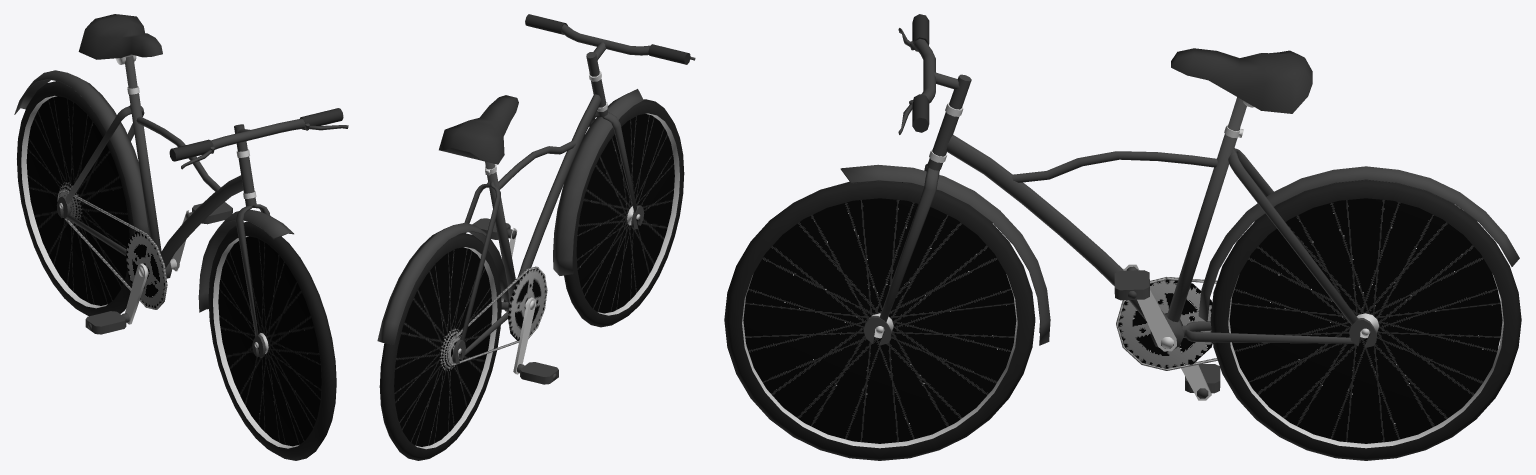
Rendered from sweethome3d-scopia-bicycle.glb.
3 renders of one model, left to right at view 1: azimuth 30°, elevation 25°; view 2: azimuth 150°, elevation 25°; view 3: azimuth 270°, elevation 25°, orthographic. The views are drawn at different scales.
Parts seen in each view (by area): view 1: bicycle_Circle, textured_Torus.005; view 2: bicycle_Circle, textured_Torus.005; view 3: textured_Torus.005, bicycle_Circle.
Boxes of the visible parts, x1,y1,x2,y2 form: bicycle_Circle: (14, 14, 348, 460); textured_Torus.005: (26, 96, 321, 446); bicycle_Circle: (377, 14, 695, 460); textured_Torus.005: (394, 114, 674, 446); textured_Torus.005: (743, 198, 1502, 443); bicycle_Circle: (724, 14, 1521, 460).
Bounding box in the file's own units: 45.97 × 84.33 × 149.
Materials: 8 (1 with a texture image).
